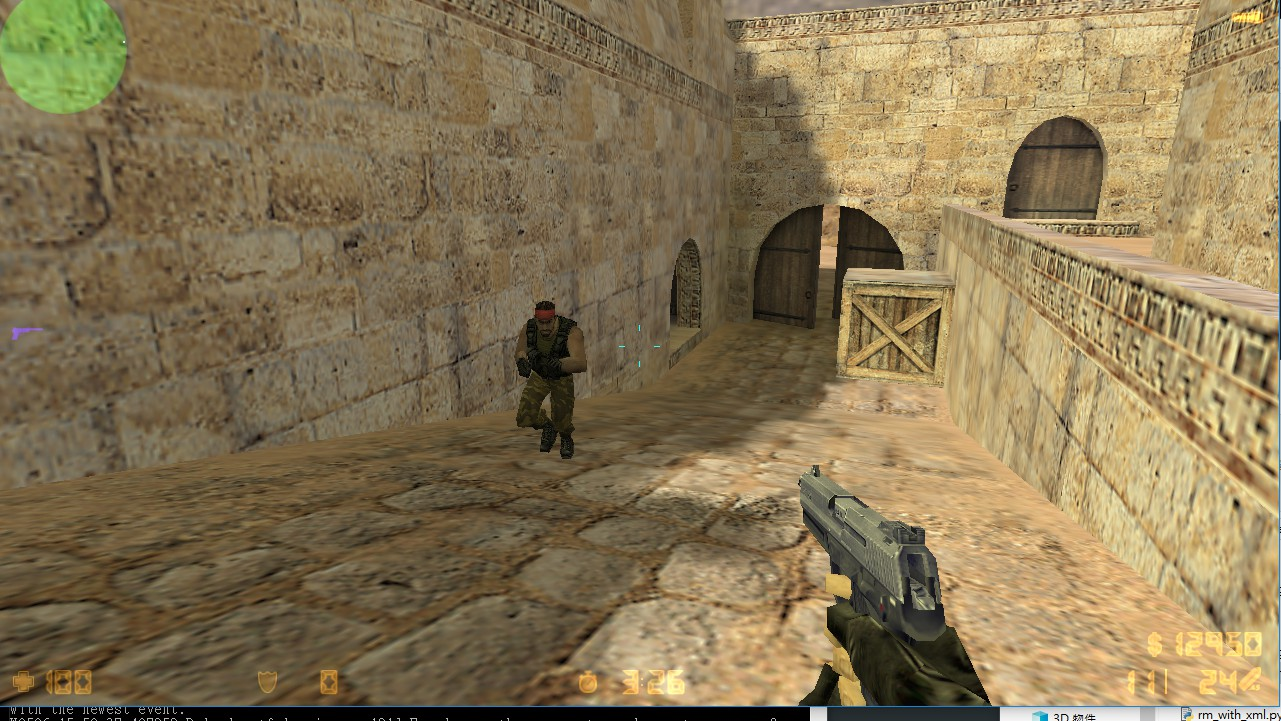person: (502, 295, 579, 465)
